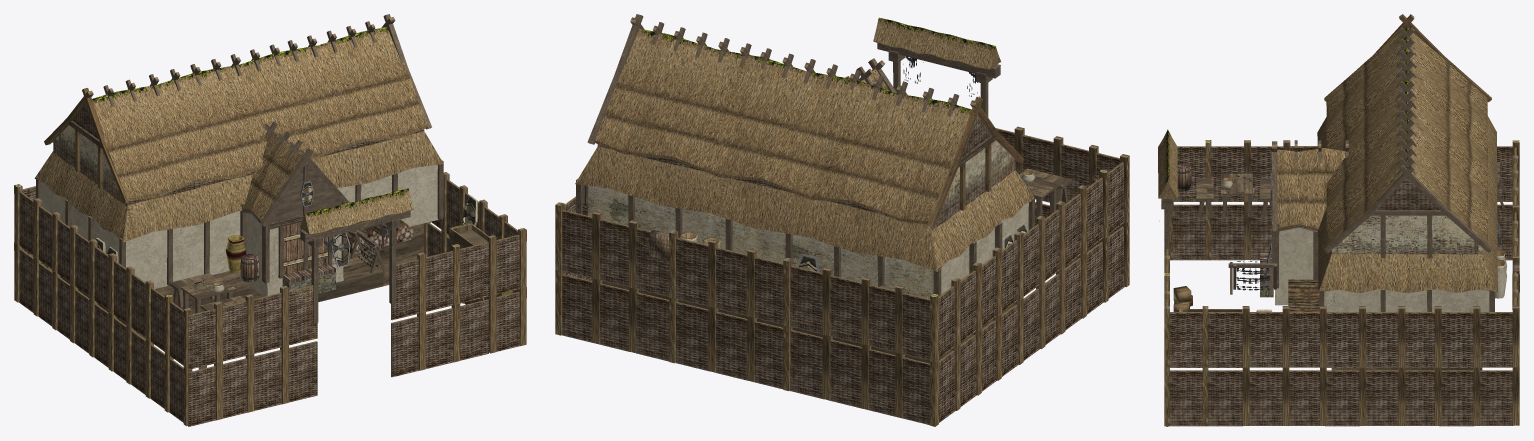
3 renders of one model, left to right at view 1: azimuth 30°, elevation 25°; view 2: azimuth 150°, elevation 25°; view 3: azimuth 270°, elevation 25°, orthographic. The views are drawn at different scales.
Parts seen in each view (by area): view 1: cc; view 2: cc; view 3: cc.
Part boxes in pixels (<box>): cc: <box>14,14,526,426</box>; cc: <box>555,14,1129,426</box>; cc: <box>1158,14,1519,426</box>.
Bounding box in the file's own units: 30.38 × 27.51 × 21.17.
